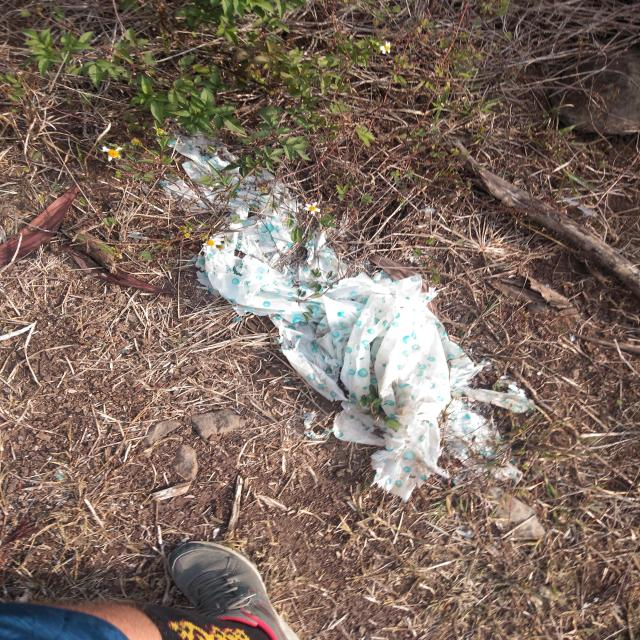litter: (169, 134, 535, 500)
